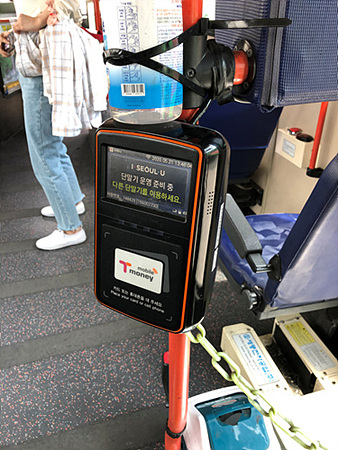terminal: (96, 114, 218, 331)
